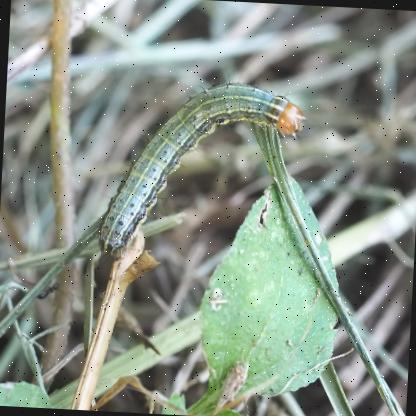Fall Armyworm Larvae: (89, 63, 315, 276)
